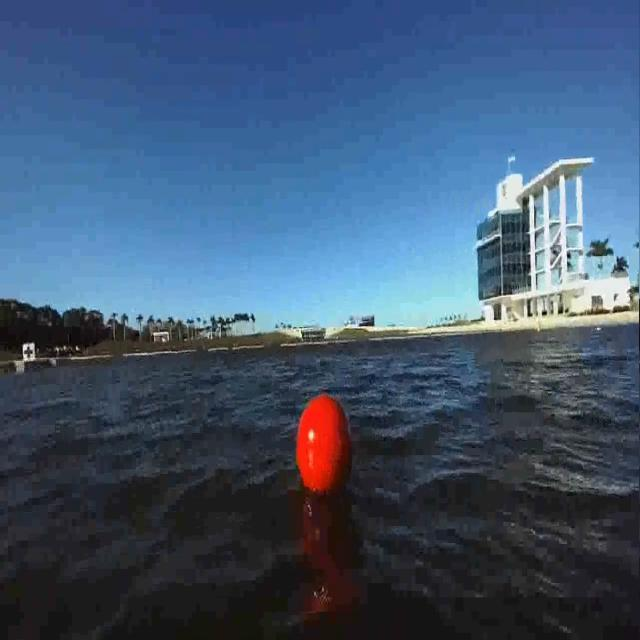red-buoy: (296, 394, 352, 497)
